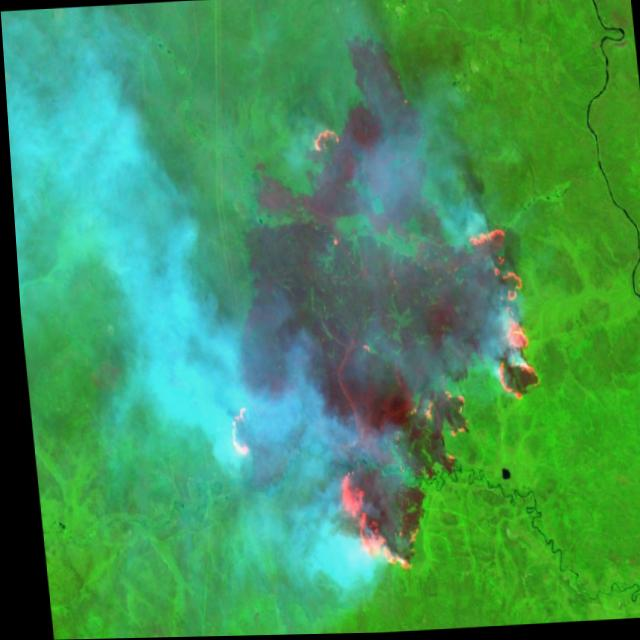fire: (185, 115, 555, 590)
